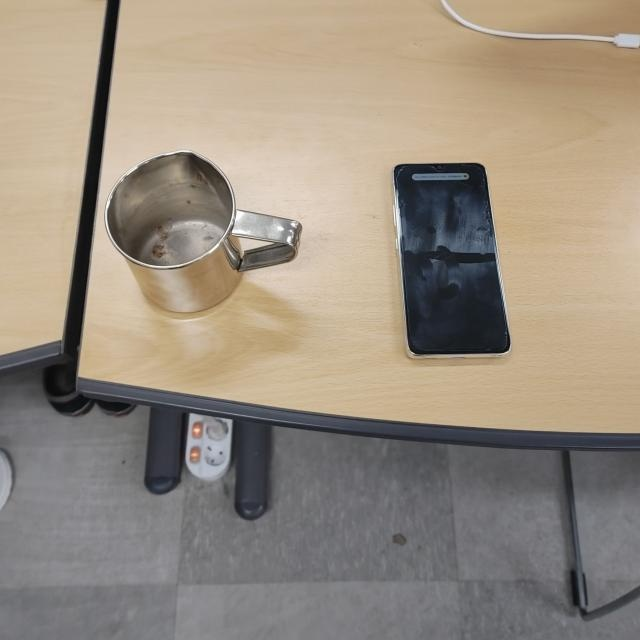cup: (105, 148, 303, 316)
phone: (392, 160, 513, 364)
